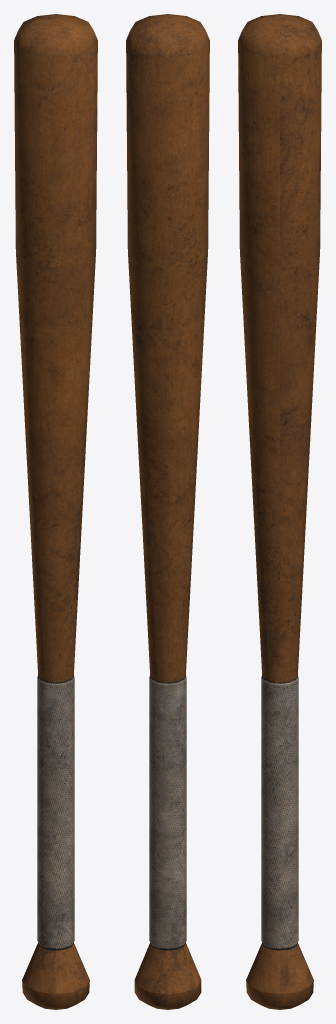
File: Baseball_bat.glb
3 views of the same model, side by side, from view 1: azimuth 90°, elevation 25°; view 2: azimuth 150°, elevation 25°; view 3: azimuth 270°, elevation 25° (orthographic).
Visible parts, largest first — view 1: Baseball_bat; view 2: Baseball_bat; view 3: Baseball_bat.
Part boxes in pixels (x1,y1,x2,y2): Baseball_bat: (14, 14, 97, 1009); Baseball_bat: (126, 14, 209, 1009); Baseball_bat: (238, 14, 321, 1009).
Size of the model in its own units: 0.067 by 0.8633 by 0.067.
Materials: 1 (1 with a texture image).
